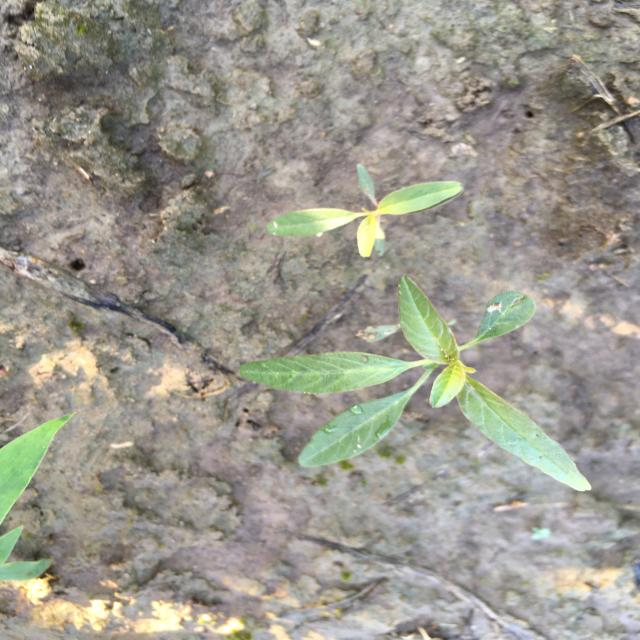Waterhemp: (233, 273, 595, 493), (264, 160, 468, 260)
